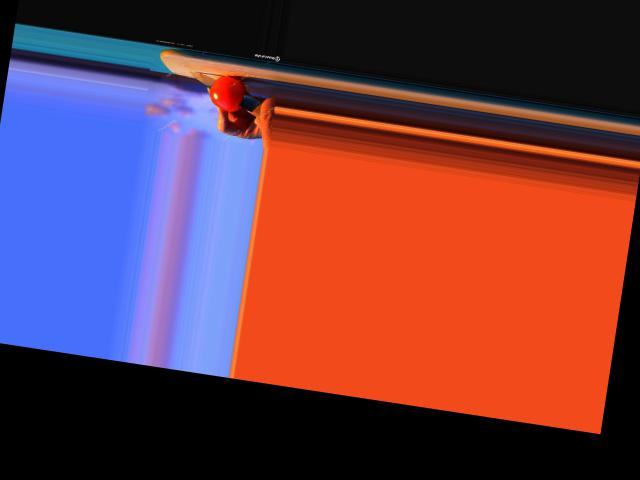tomato: (206, 72, 248, 112)
